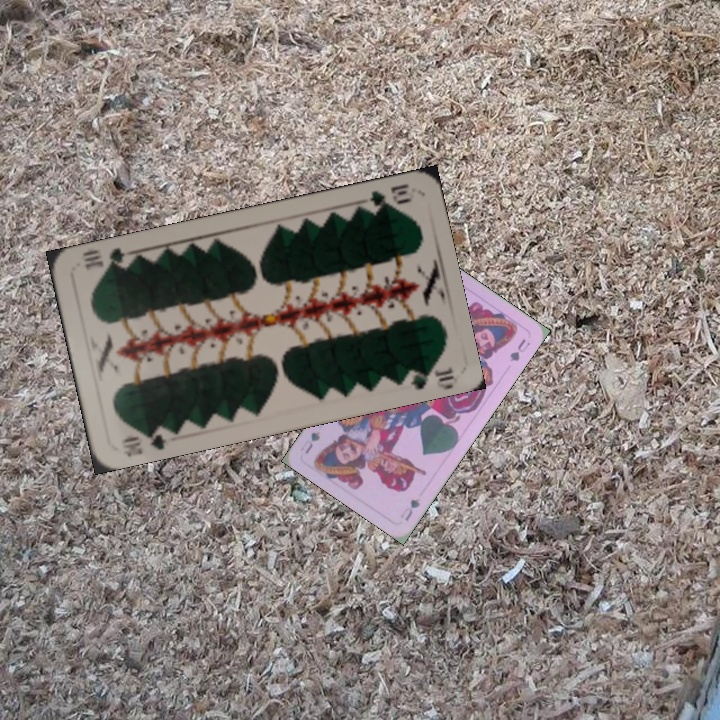G10: (358, 179, 413, 215), (118, 424, 169, 459)
GU: (396, 494, 423, 523)
